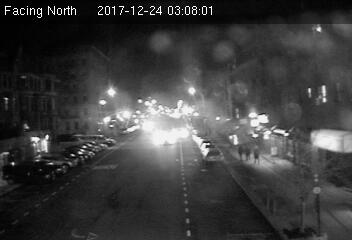car: (201, 146, 223, 162)
pedestrian: (253, 144, 261, 165)
